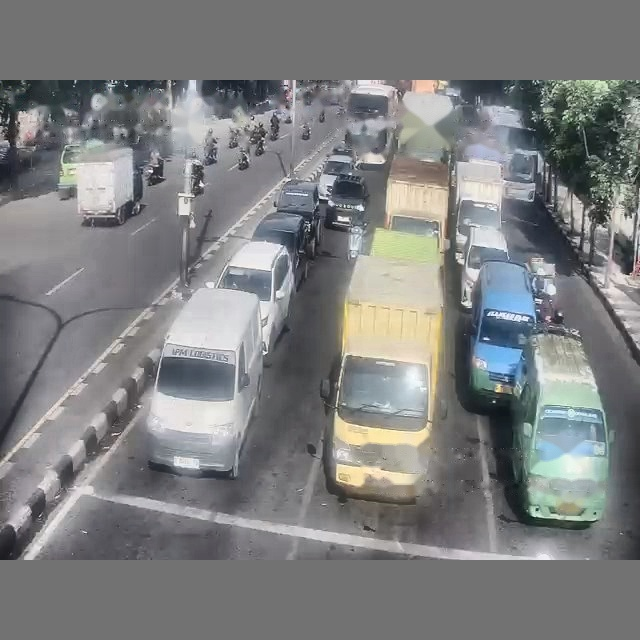Bis: (479, 106, 542, 202), (345, 84, 397, 165)
Mobil: (216, 240, 294, 357), (252, 212, 308, 290), (274, 179, 321, 259), (325, 172, 368, 227), (318, 154, 354, 201)
Motor: (347, 220, 365, 260), (143, 157, 163, 185), (204, 142, 217, 165), (238, 148, 249, 169), (228, 128, 239, 148), (255, 137, 264, 155), (301, 123, 310, 139), (318, 110, 325, 123)
Truk: (321, 255, 445, 502), (384, 155, 449, 253), (76, 146, 142, 224)
